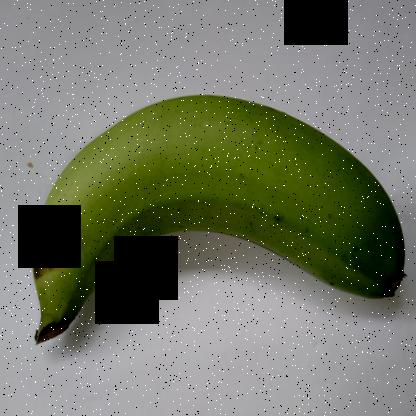freshunripe: (7, 61, 412, 367)
